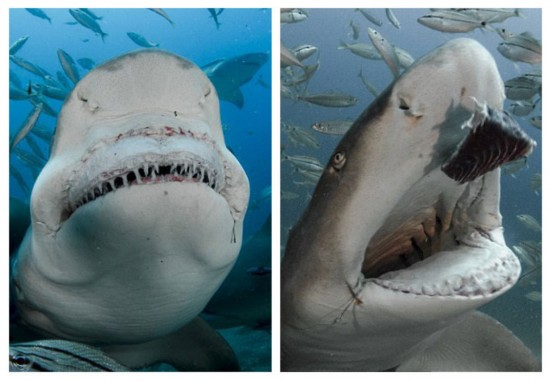shark: (278, 37, 527, 367), (7, 41, 257, 349)
